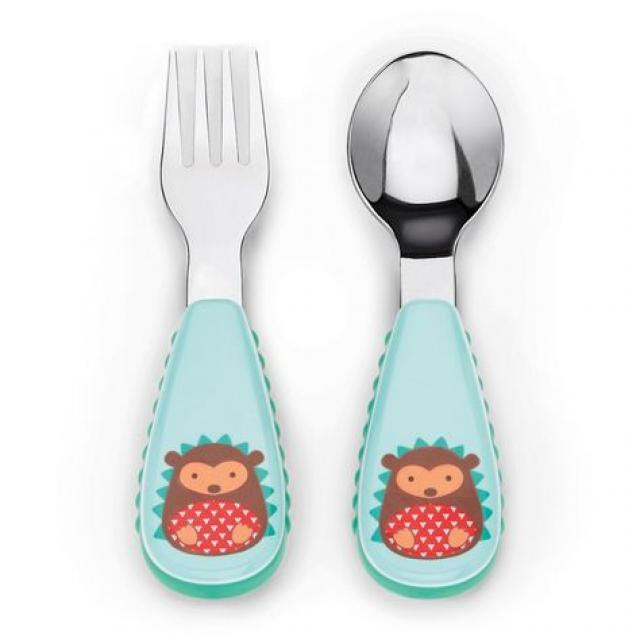fork: (131, 36, 310, 614)
spoon: (328, 38, 520, 605)
